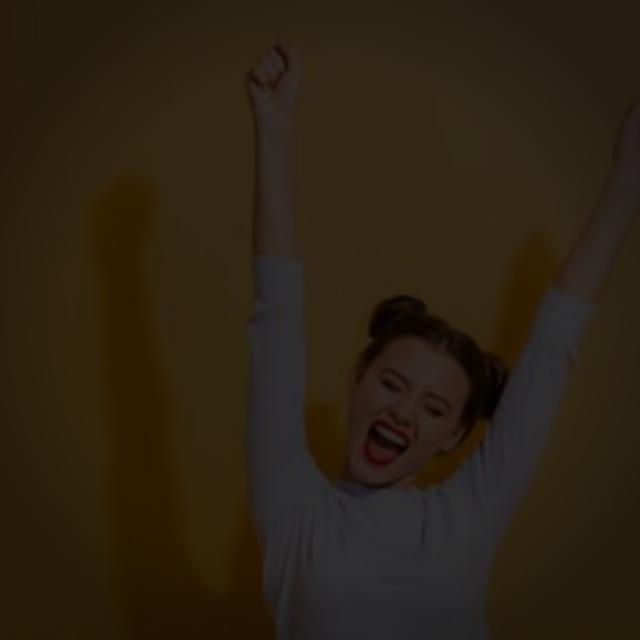Happy: (330, 282, 480, 530)
